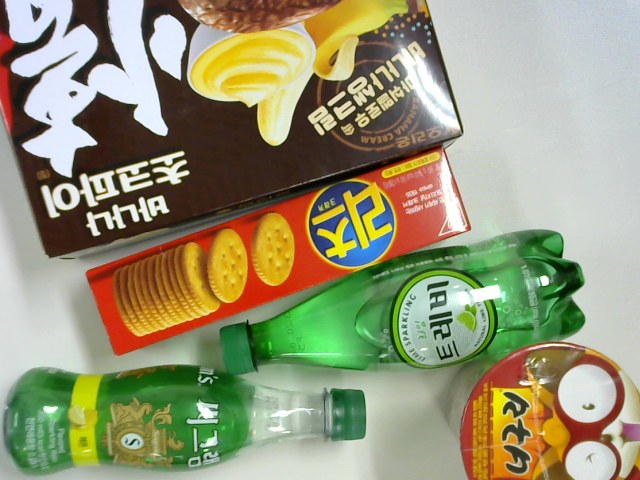Choco_Pie_Banana: (3, 1, 468, 263)
Raccoon: (451, 341, 640, 480)
Ritz_Cracker: (76, 145, 473, 361)
Seagram_Lemon_Carbonated_Water: (1, 359, 373, 476)
Treviraim_500ml: (212, 223, 595, 383)
